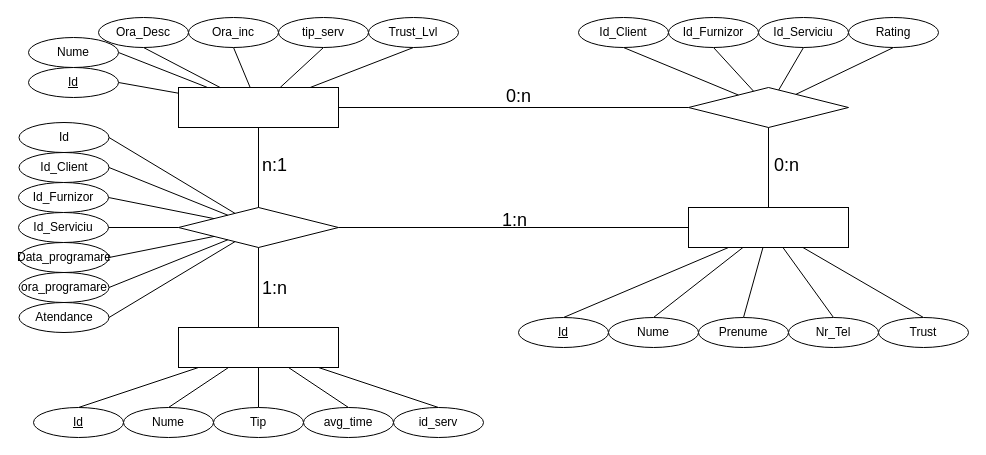
Image size: 986x455. Some labels were removed from this diagram. Here are the shapes that lost their labels. From the top down, the box of each, then its label:
(178, 86, 338, 128): Firnizori
(688, 86, 848, 128): RECENZII
(178, 206, 338, 248): PROGRAMARI
(688, 206, 848, 248): CLIENTI
(178, 326, 338, 368): SERVICES
